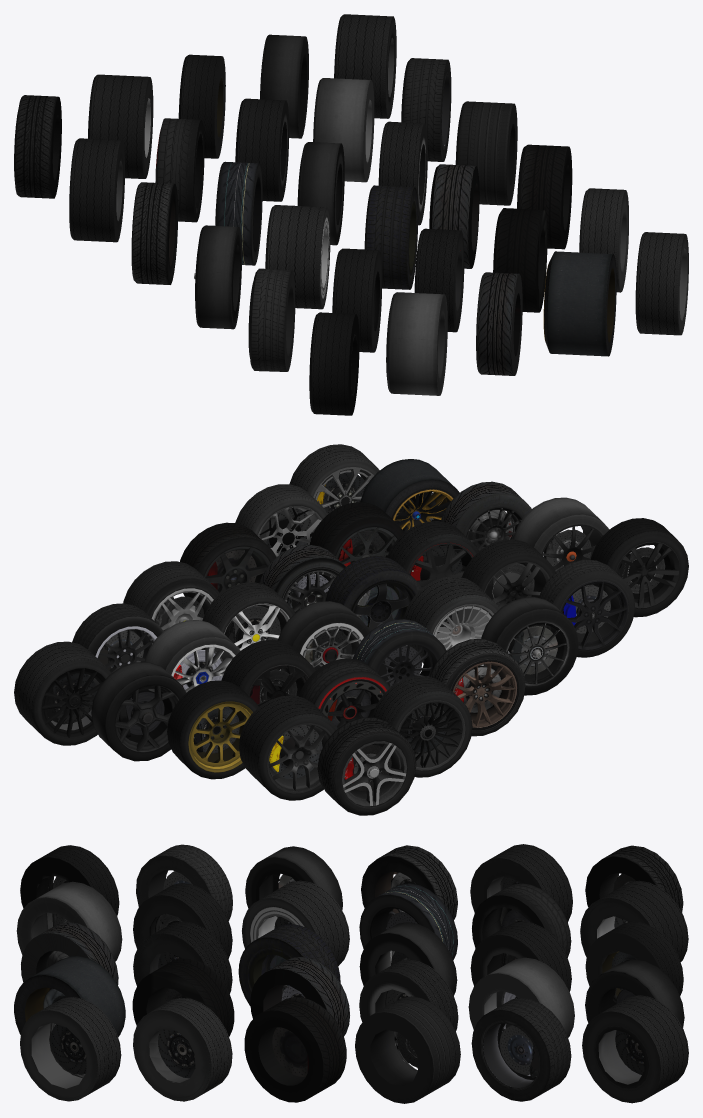
3 renders of one model, top to bottom at view 1: azimuth 30°, elevation 25°; view 2: azimuth 150°, elevation 25°; view 3: azimuth 270°, elevation 25°, orthographic. The views are drawn at different scales.
Visible parts, largest first — view 1: wheel_3, wheel_1, wheel_15, wheel_21, wheel_9, wheel_4, wheel_26, wheel_18, wheel, wheel_29, wheel_25, wheel_22 (+18 smaller); view 2: wheel_25, wheel_26, wheel_29, wheel_28, wheel_15, wheel_27, wheel_10, wheel, wheel_5, wheel_20, wheel_3, wheel_21 (+37 smaller); view 3: wheel_9, wheel_29, wheel_24, wheel_4, wheel_14, wheel_19, wheel_21, wheel_3, wheel_26, wheel_18, wheel_1, wheel_15 (+23 smaller).
Boxes of the visible parts, box(x1,y1,x2,y2) form: wheel_3: box(543, 251, 616, 356); wheel_1: box(386, 292, 447, 395); wheel_15: box(69, 138, 124, 242); wheel_21: box(265, 205, 330, 309); wheel_9: box(455, 101, 517, 205); wheel_4: box(635, 232, 688, 335); wheel_26: box(88, 74, 153, 178); wheel_18: box(313, 78, 374, 182); wheel: box(309, 312, 359, 415); wheel_29: box(334, 14, 396, 118); wheel_25: box(14, 95, 61, 198); wheel_22: box(364, 185, 418, 289); wheel_25: box(317, 717, 416, 815); wheel_26: box(239, 695, 337, 800); wheel_29: box(14, 641, 111, 745); wheel_28: box(91, 662, 186, 761); wheel_15: box(372, 676, 472, 777); wheel_27: box(167, 680, 259, 779); wheel_10: box(539, 559, 634, 657); wheel: box(591, 518, 688, 617); wheel_5: box(429, 639, 525, 736); wheel_20: box(481, 597, 578, 695); wheel_3: box(360, 459, 459, 533); wheel_21: box(403, 576, 500, 665); wheel_9: box(355, 996, 460, 1103); wheel_29: box(582, 995, 688, 1103); wheel_24: box(244, 997, 346, 1102); wheel_4: box(20, 997, 121, 1101); wheel_14: box(133, 997, 232, 1101); wheel_19: box(471, 997, 571, 1101); wheel_21: box(242, 880, 349, 966); wheel_3: box(14, 956, 125, 1036); wheel_26: box(580, 880, 688, 961); wheel_18: box(468, 957, 574, 1037); wheel_1: box(16, 881, 122, 961); wheel_15: box(470, 844, 572, 922).
Bounding box in the file's own units: 0.077 × 0.0166 × 0.114.
60 materials, 60 textured.
